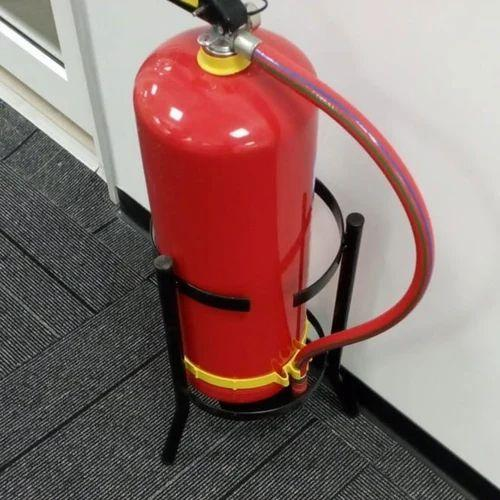floor-kept: (111, 0, 448, 477)
